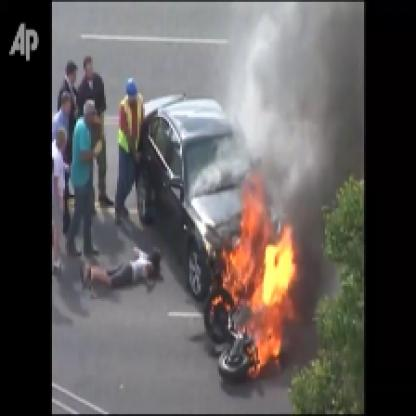Fire: (206, 160, 295, 377)
Smoke: (249, 2, 362, 174)
